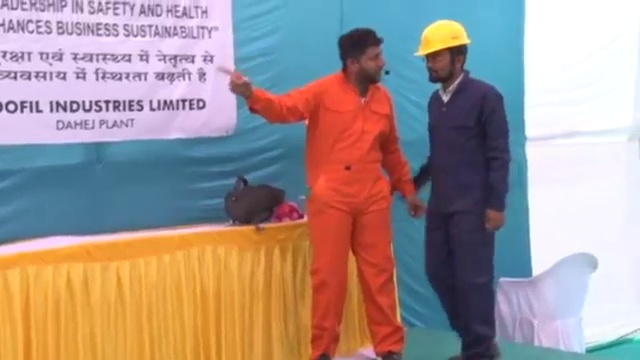helmet: (413, 18, 470, 56)
helmet_off: (338, 28, 387, 88)
helmet_on: (414, 19, 472, 87)
person: (224, 27, 422, 360), (403, 19, 515, 360)
